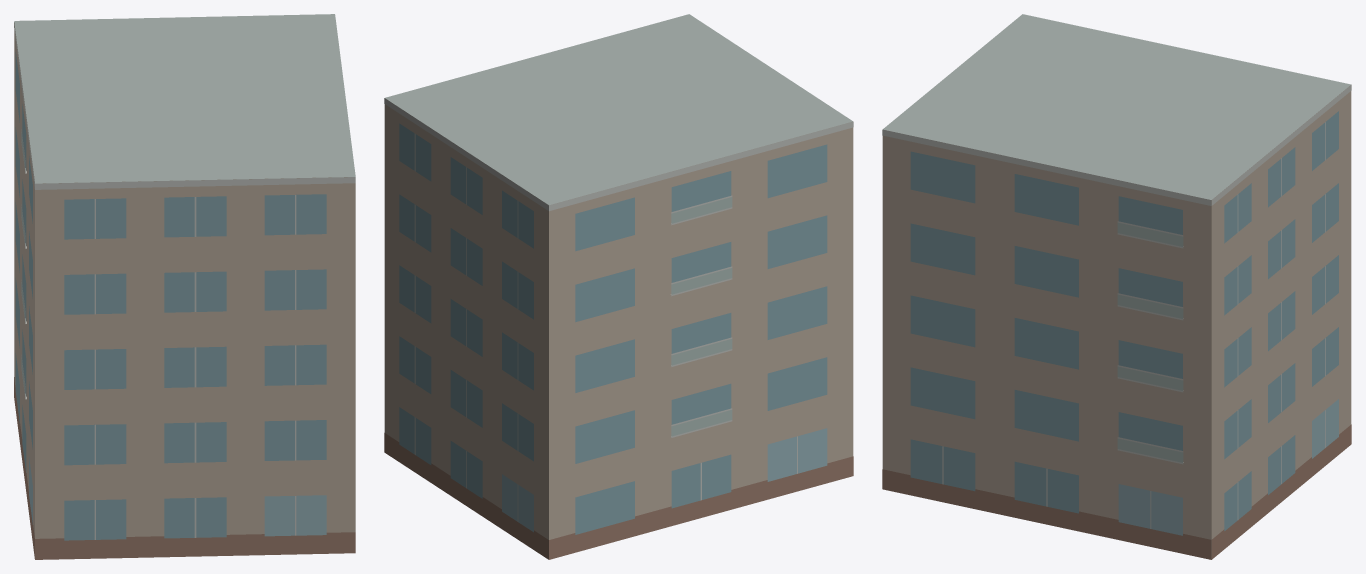
Rendered from survey-upis-32653268.glb.
The picture shows the model from 3 angles, left to right: view 1: azimuth 30°, elevation 25°; view 2: azimuth 150°, elevation 25°; view 3: azimuth 270°, elevation 25°; orthographic projection. The views are drawn at different scales.
Parts seen in each view (by area): view 1: survey-upis-32653268.tmp; view 2: survey-upis-32653268.tmp; view 3: survey-upis-32653268.tmp.
Part boxes in pixels (left/top/right/bottom): survey-upis-32653268.tmp: left=14, top=14, right=355, bottom=559; survey-upis-32653268.tmp: left=384, top=14, right=853, bottom=559; survey-upis-32653268.tmp: left=882, top=14, right=1351, bottom=559.
Bounding box in the file's own units: 16.09 × 14.5 × 17.14.
